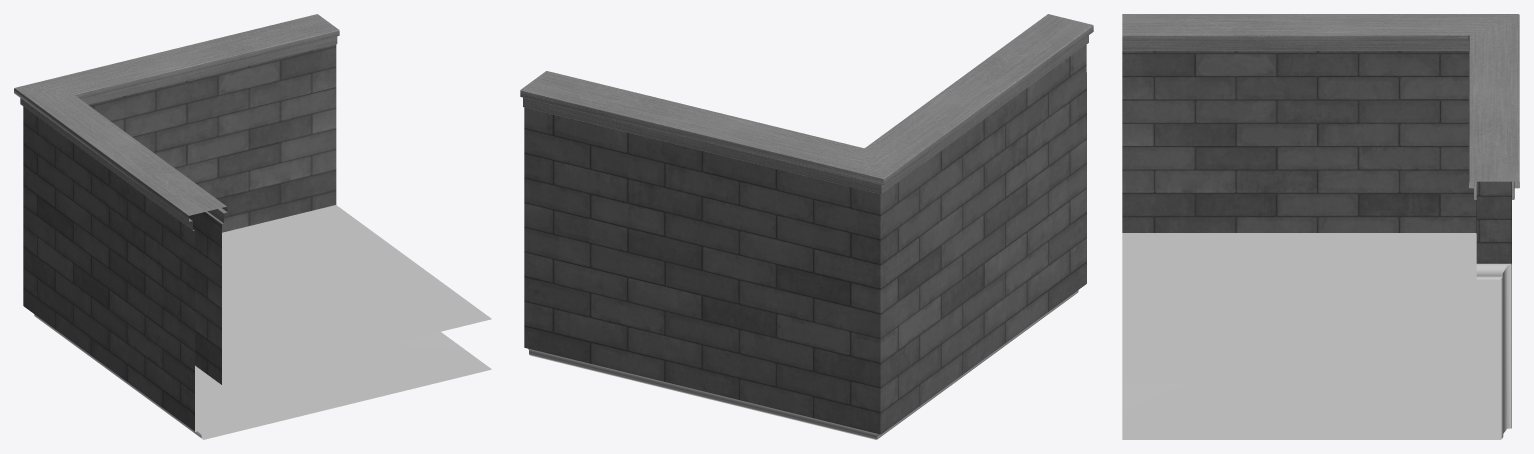
The model's file is SM_Balcony_01_Corner.fbx.
The picture shows the model from 3 angles, left to right: view 1: azimuth 30°, elevation 25°; view 2: azimuth 150°, elevation 25°; view 3: azimuth 270°, elevation 25°; orthographic projection. The views are drawn at different scales.
Parts seen in each view (by area): view 1: SM_Balcony_01_Corner_LOD0; view 2: SM_Balcony_01_Corner_LOD0; view 3: SM_Balcony_01_Corner_LOD0.
Part boxes in pixels (x1,y1,x2,y2): SM_Balcony_01_Corner_LOD0: (14,14,491,439); SM_Balcony_01_Corner_LOD0: (520,14,1093,439); SM_Balcony_01_Corner_LOD0: (1122,14,1519,439).
Bounding box in the file's own units: 158 × 158 × 113.
